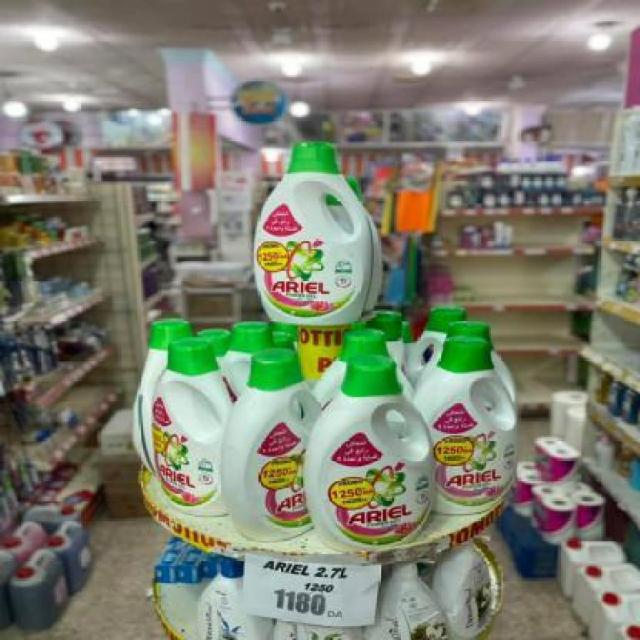Detergent: (308, 346, 437, 534), (252, 134, 362, 323), (425, 328, 517, 512), (230, 346, 315, 540), (153, 331, 227, 520)
